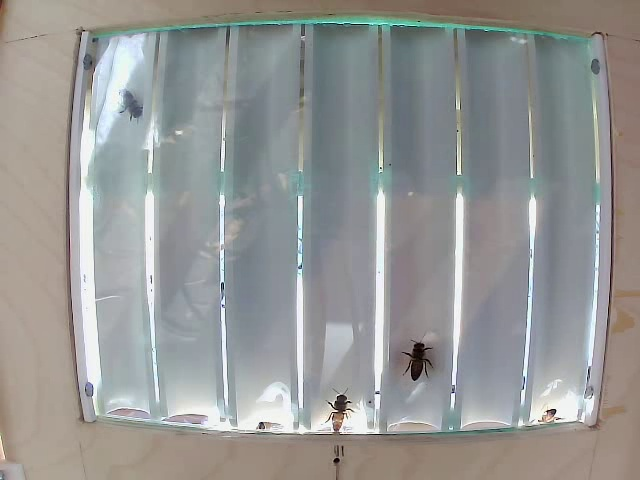bee: (321, 386, 355, 431), (406, 331, 433, 386)
